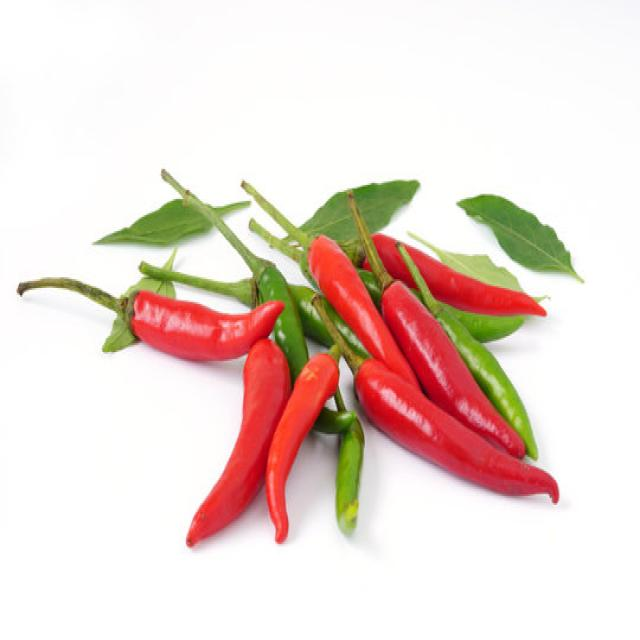Chilli: (312, 288, 559, 503), (240, 178, 420, 391), (392, 237, 538, 460), (160, 167, 309, 384), (16, 274, 284, 361), (185, 336, 290, 548), (264, 341, 342, 544), (334, 413, 364, 535)
